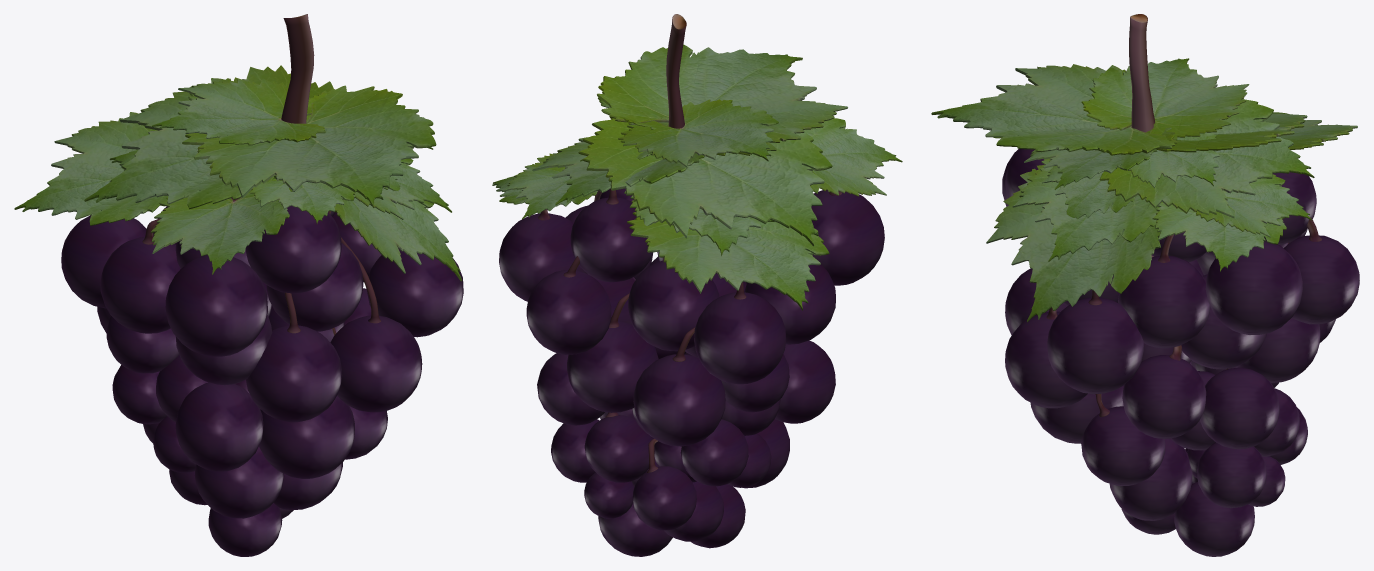
Rendered from grape.glb.
The picture shows the model from 3 angles, left to right: view 1: azimuth 30°, elevation 25°; view 2: azimuth 150°, elevation 25°; view 3: azimuth 270°, elevation 25°; orthographic projection. The views are drawn at different scales.
Parts seen in each view (by area): view 1: Material-material, Material_002-material.001, Material_002-material, Material_001-material; view 2: Material-material, Material_002-material.001, Material_002-material, Material_001-material, Material_002-material.002; view 3: Material-material, Material_002-material.001, Material_002-material, Material_002-material.002, Material_001-material.
Part boxes in pixels (box(x1,y1,x2,y2)): Material-material: box(61, 198, 463, 556); Material_002-material.001: box(14, 65, 451, 225); Material_002-material: box(14, 79, 462, 281); Material_001-material: box(142, 14, 380, 335); Material-material: box(499, 188, 884, 556); Material_002-material.001: box(492, 44, 847, 307); Material_002-material: box(493, 97, 902, 310); Material_001-material: box(538, 14, 841, 472); Material_002-material.002: box(494, 153, 597, 218); Material-material: box(1002, 149, 1359, 556); Material_002-material.001: box(931, 58, 1356, 271); Material_002-material: box(986, 97, 1357, 322); Material_002-material.002: box(1153, 180, 1311, 270); Material_001-material: box(1046, 14, 1321, 417).
Bounding box in the file's own units: 5.85 × 8.29 × 6.
3 materials, 3 textured.
